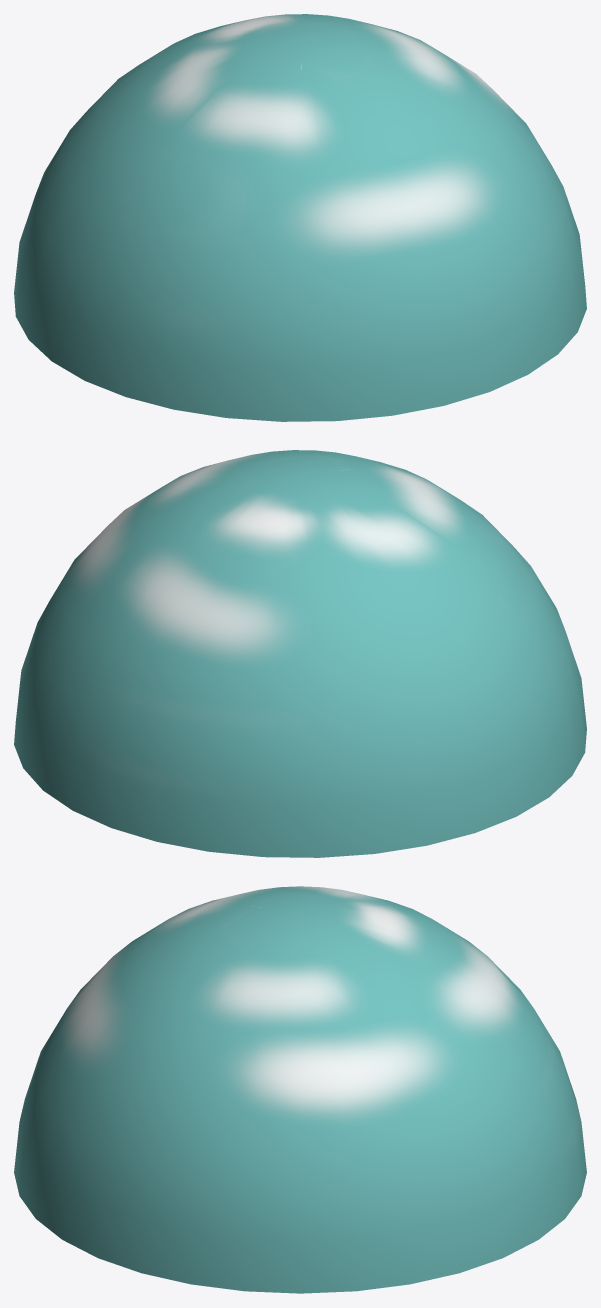
The model's file is SnowGlobe.fbx.
The picture shows the model from 3 angles, top to bottom: view 1: azimuth 30°, elevation 25°; view 2: azimuth 150°, elevation 25°; view 3: azimuth 270°, elevation 25°; orthographic projection.
Visible parts, largest first — view 1: Dome; view 2: Dome; view 3: Dome.
Boxes of the visible parts, <box> form: Dome: <box>14,14,586,421</box>; Dome: <box>14,450,586,857</box>; Dome: <box>14,886,586,1293</box>.
Bounding box in the file's own units: 5000 × 2500 × 5000.
